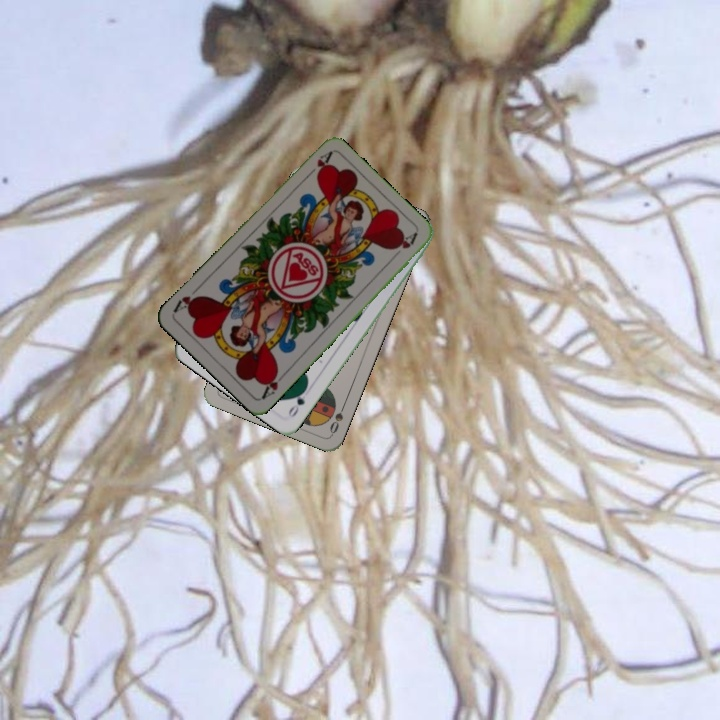GO: (284, 383, 313, 420)
HA: (257, 366, 289, 402), (301, 148, 334, 181)
SO: (326, 398, 349, 436)
